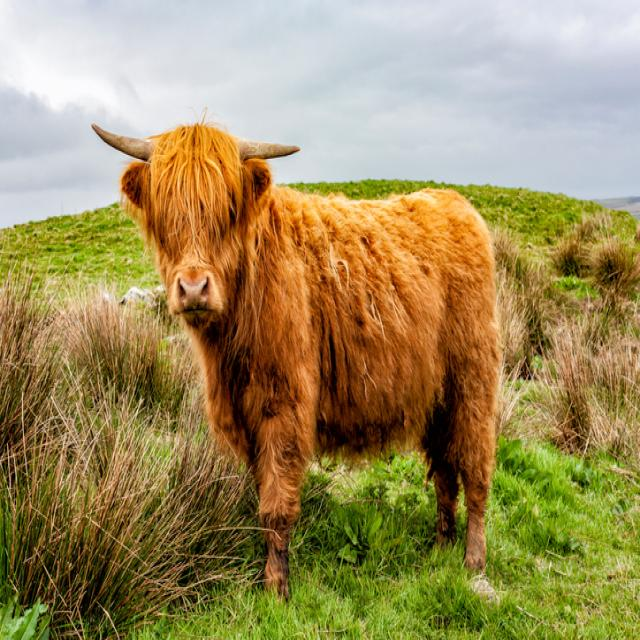cowFace: (75, 87, 308, 360)
